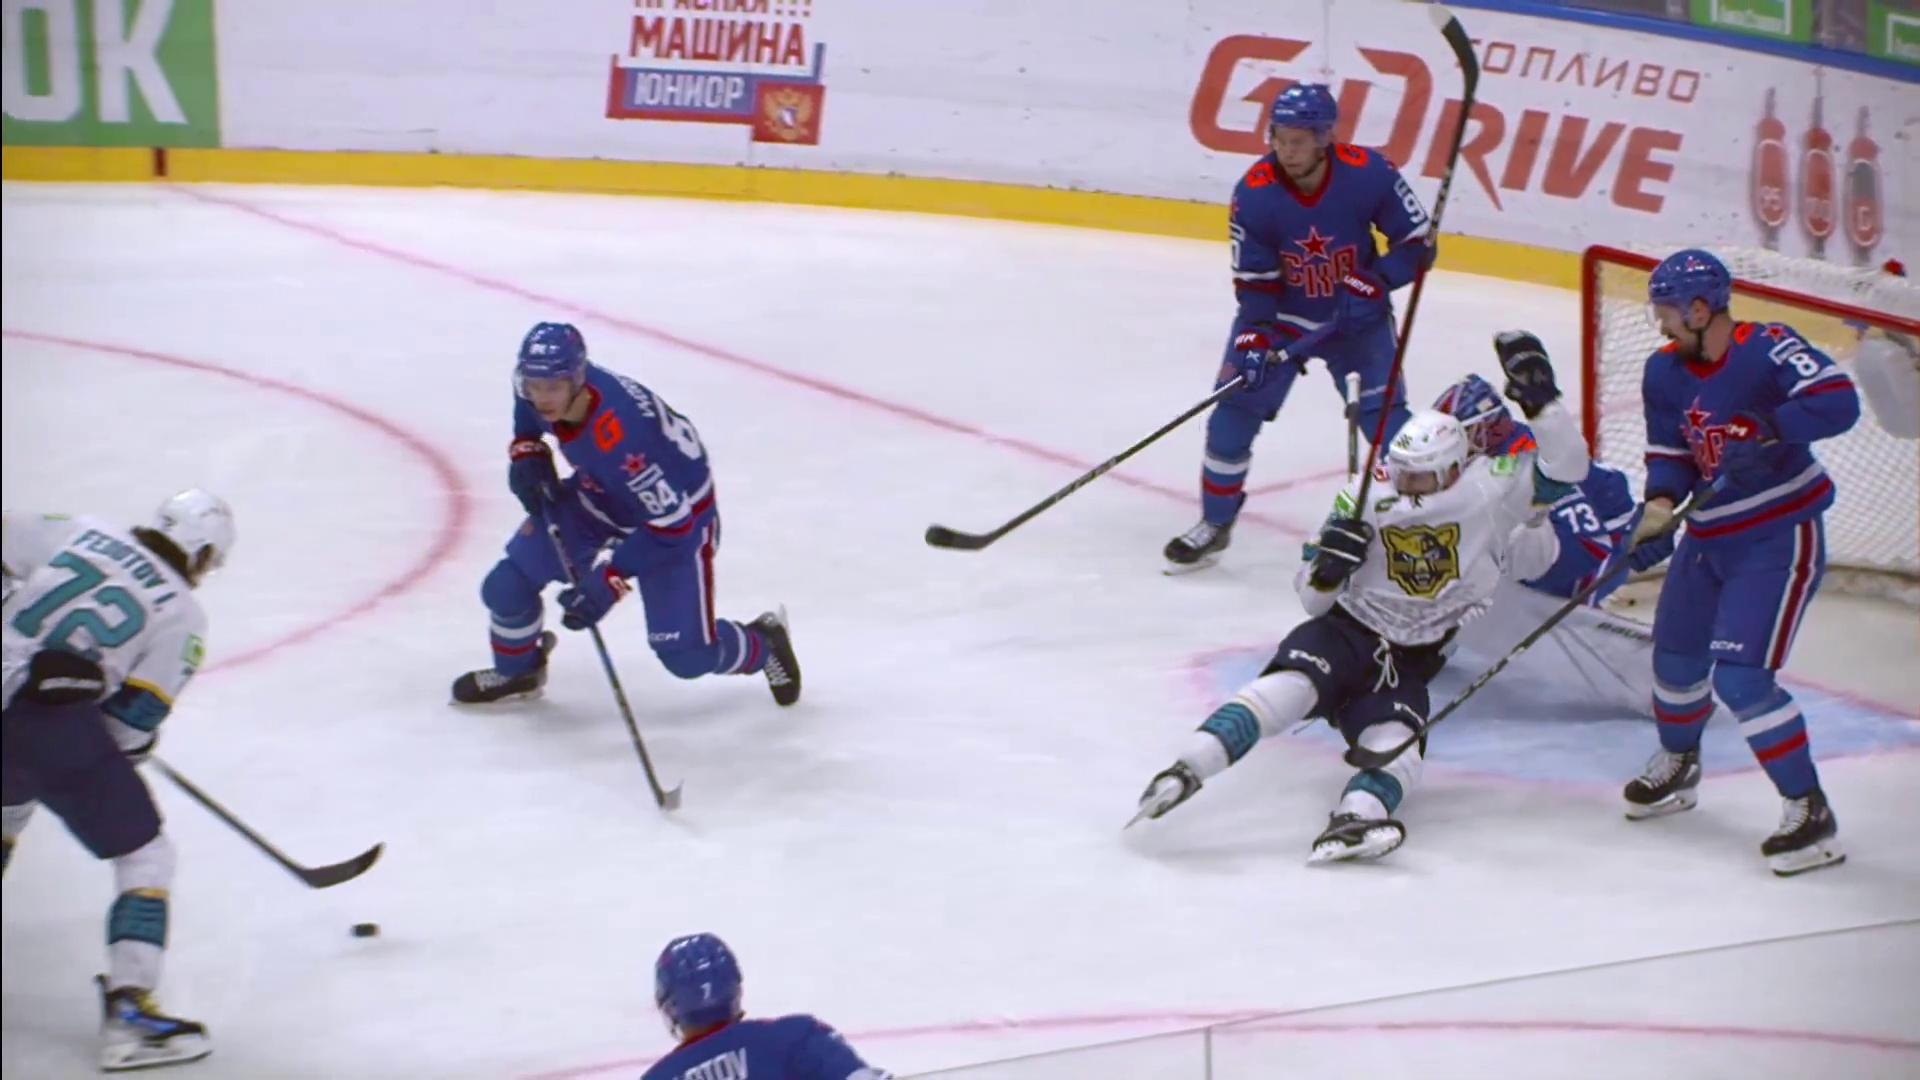ball: (349, 923, 381, 939)
